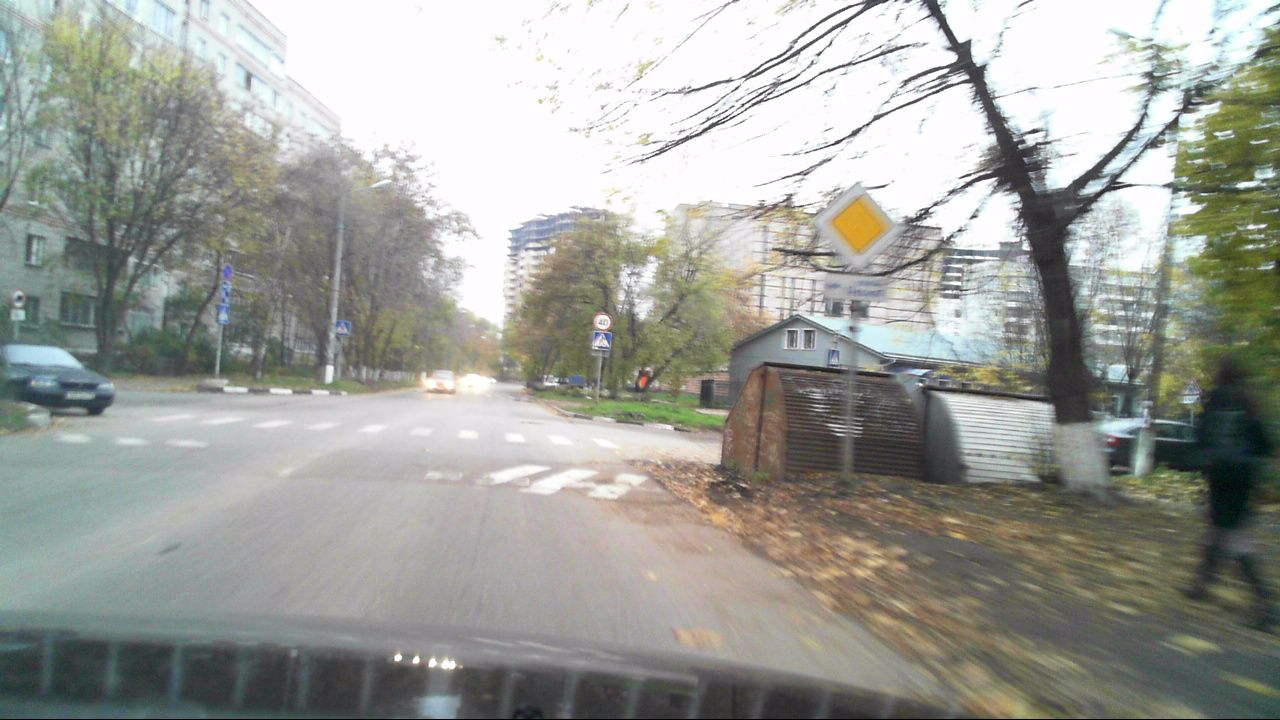speed_warning_40: (594, 311, 613, 330)
